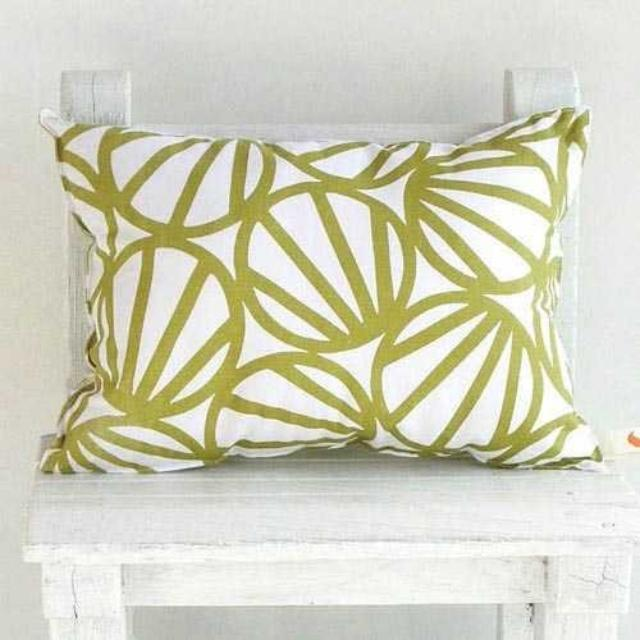pillow: (35, 99, 602, 475)
